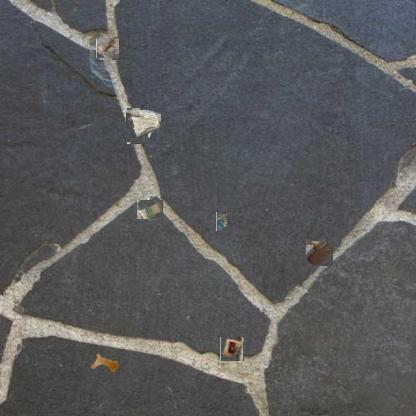dirty: (126, 109, 160, 144), (220, 338, 244, 361), (139, 197, 161, 221), (97, 38, 119, 59), (216, 212, 227, 232)
liquid: (306, 240, 334, 266), (88, 352, 120, 372)
